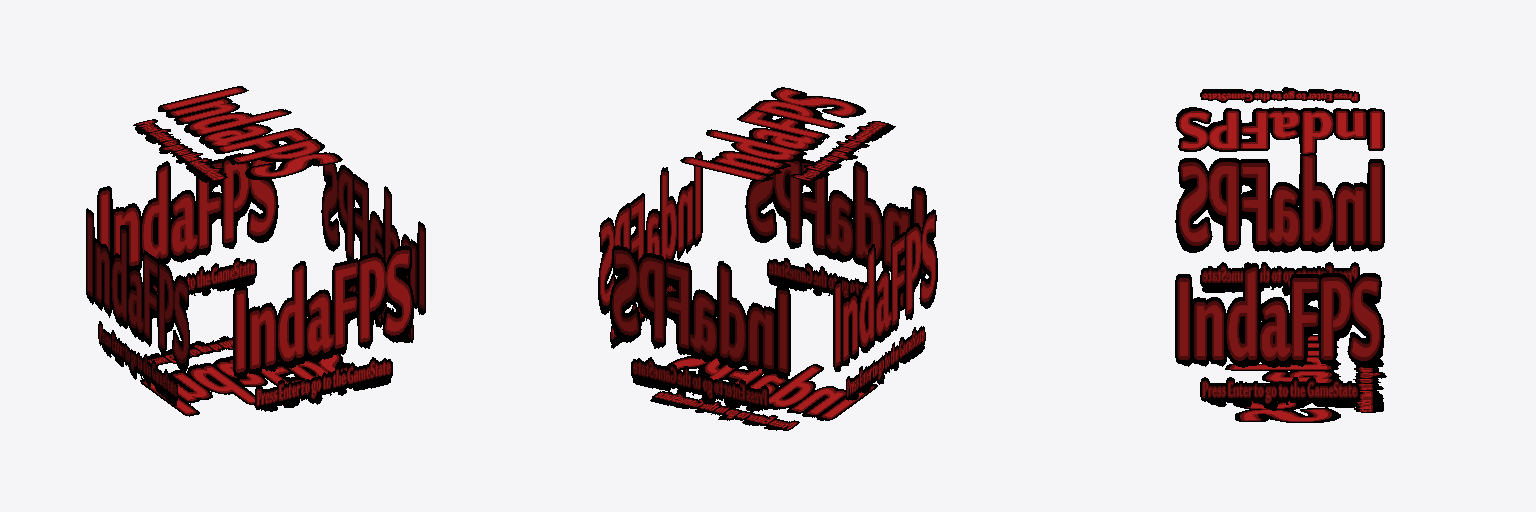
The picture shows the model from 3 angles: view 1: azimuth 30°, elevation 25°; view 2: azimuth 150°, elevation 25°; view 3: azimuth 270°, elevation 25°; orthographic projection.
Visible parts, largest first — view 1: cube; view 2: cube; view 3: cube.
Part boxes in pixels (x1,y1,x2,y2): cube: (86,86,425,416); cube: (598,87,937,430); cube: (1175,87,1386,422).
Size of the model in its own units: 1 by 1 by 1.
1 materials, 1 textured.